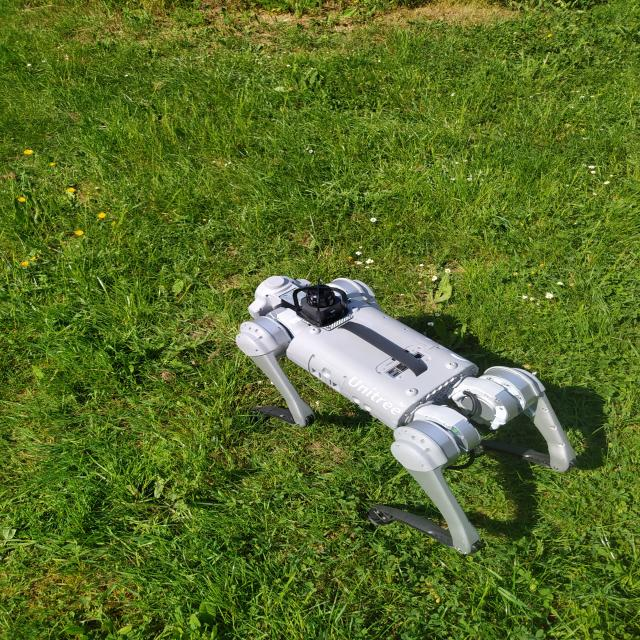unitree-go1-robot: (238, 268, 580, 558)
